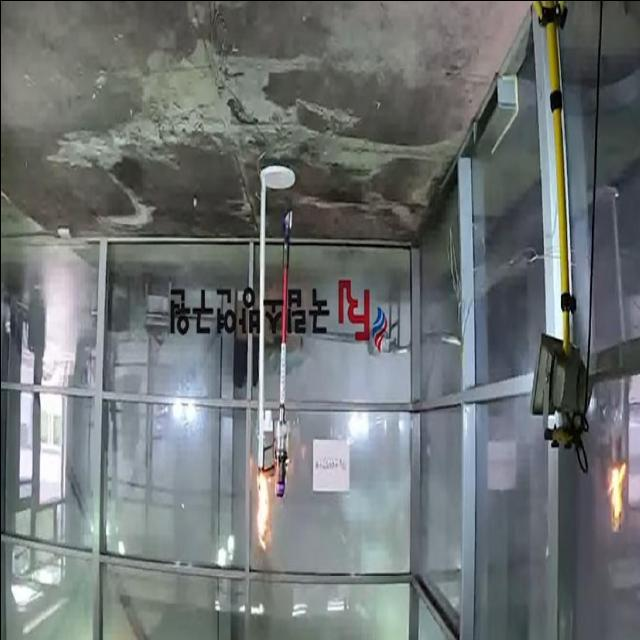Fire: (606, 462, 626, 532), (255, 470, 268, 550)
